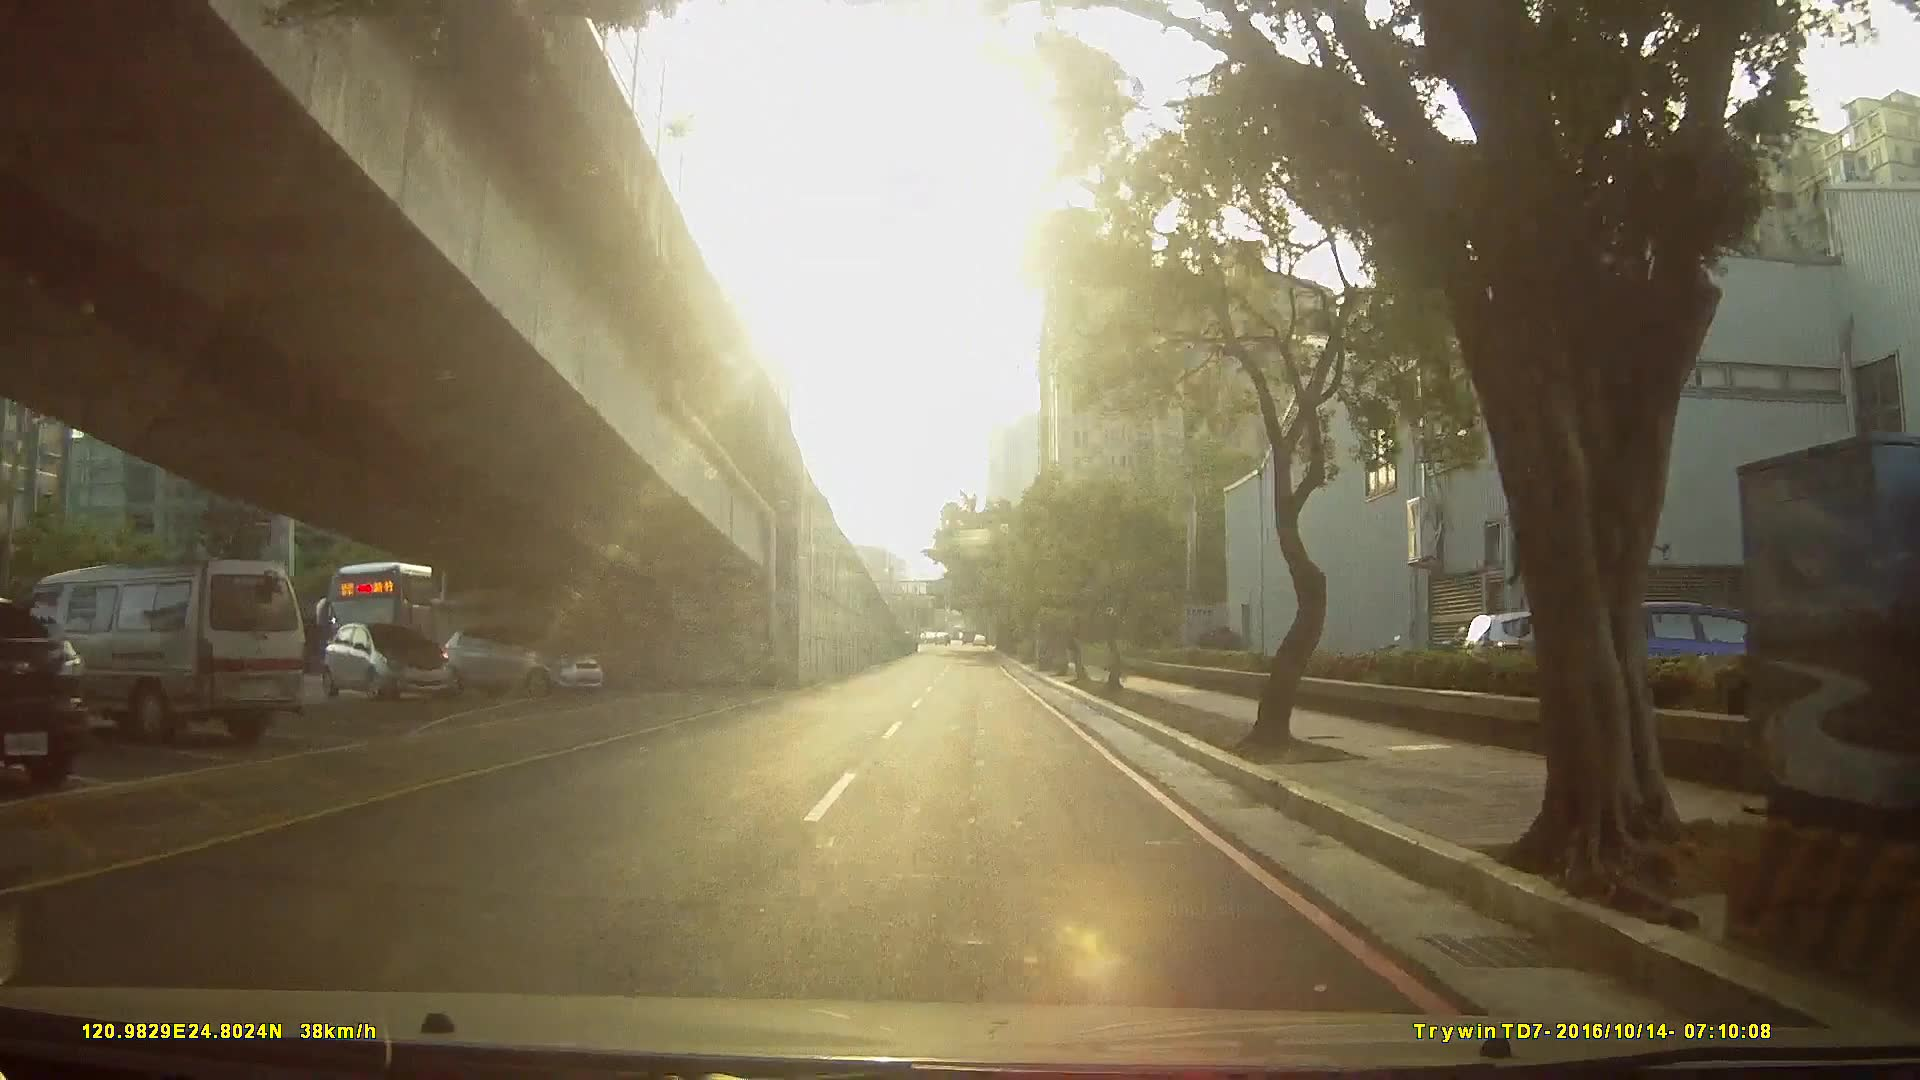vehicle: (18, 551, 306, 745), (314, 558, 527, 695), (1, 604, 96, 796), (433, 618, 603, 698), (310, 618, 448, 704)
